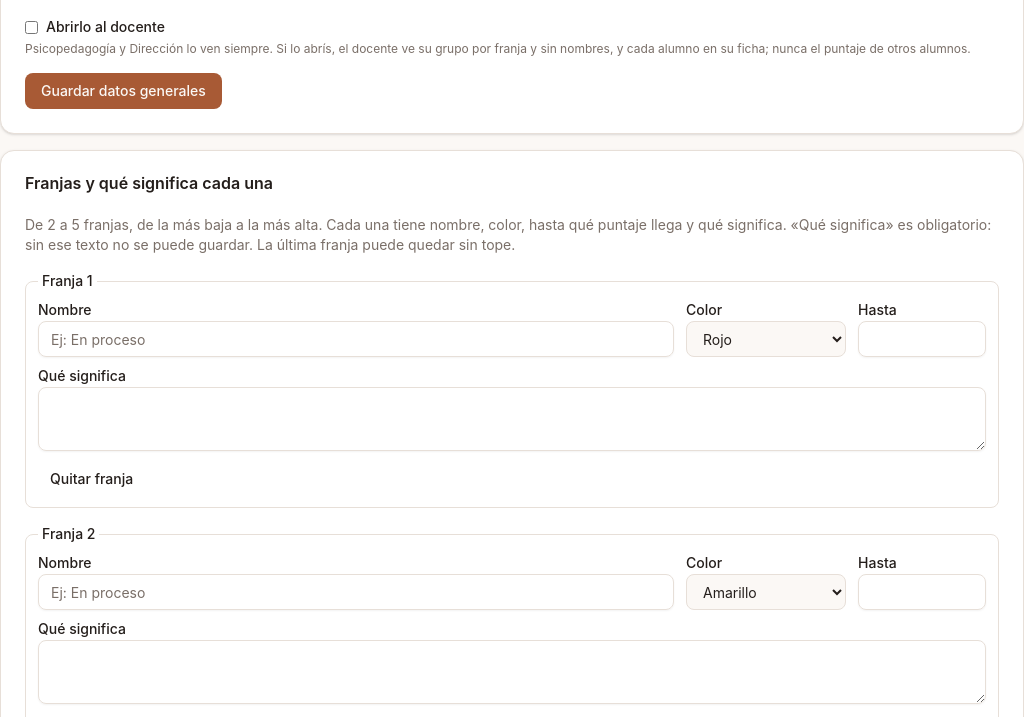
Test: ScreeningTestDesignPage › requires the meaning of every band before saving
(page scrolled)
In the 1st field labelled "Nombre": (356, 339) 38,321 -> 674,357, type "Bajo"
(page scrolled)
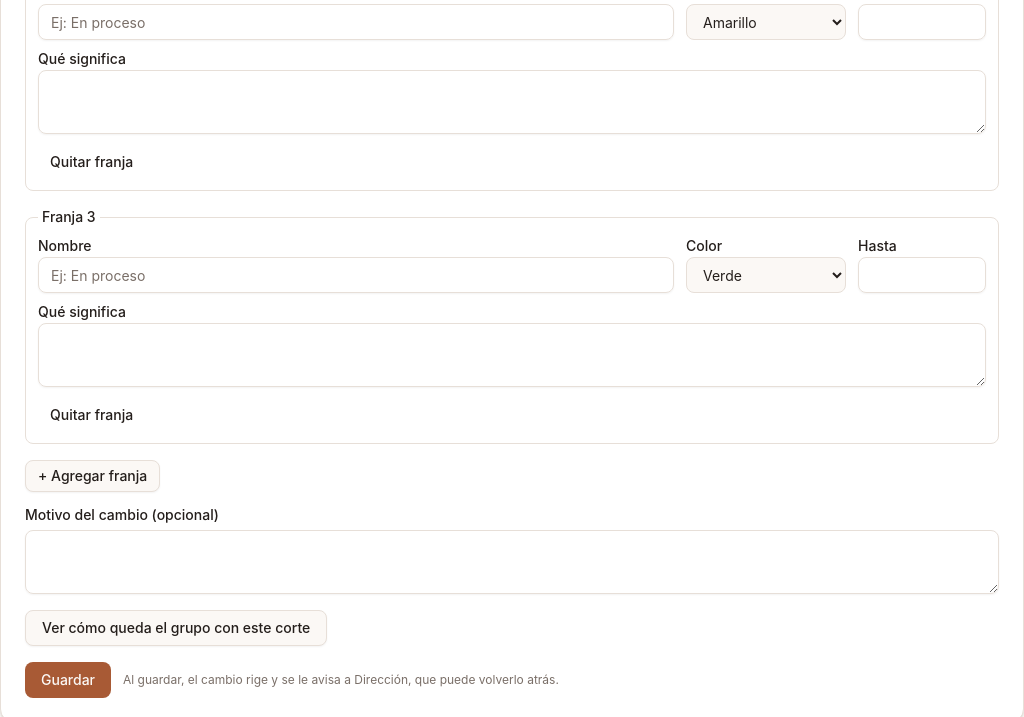
Click the button "Guardar": (68, 680) 25,662 -> 111,698
(page scrolled)
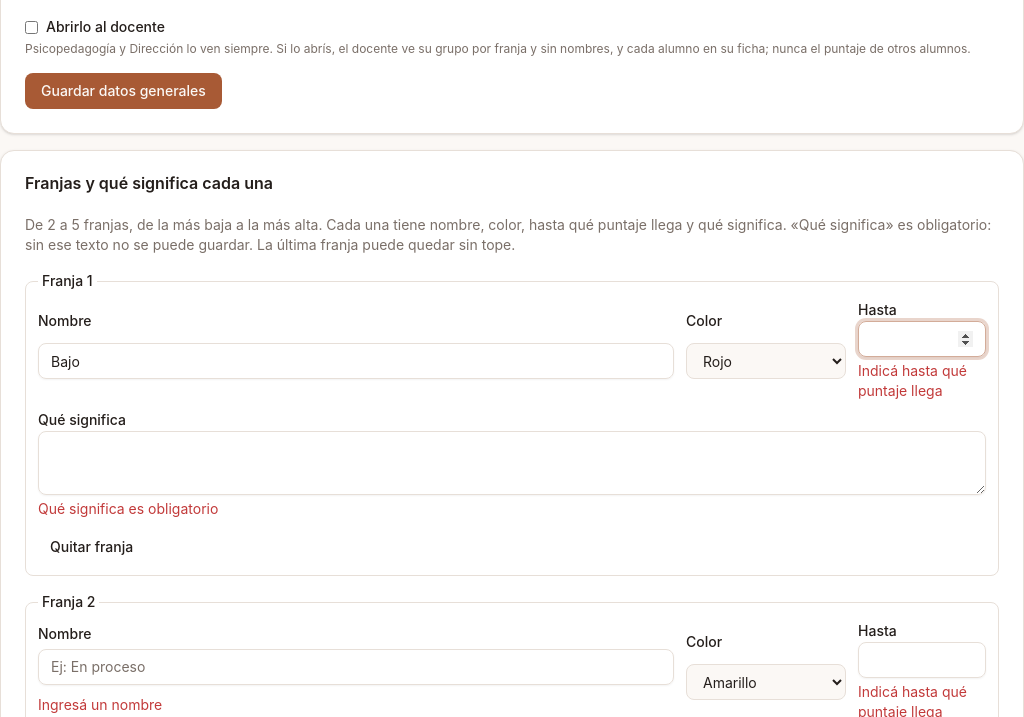
Expected: the text "Qué significa es obligatorio" is shown, 38,500 -> 218,517
